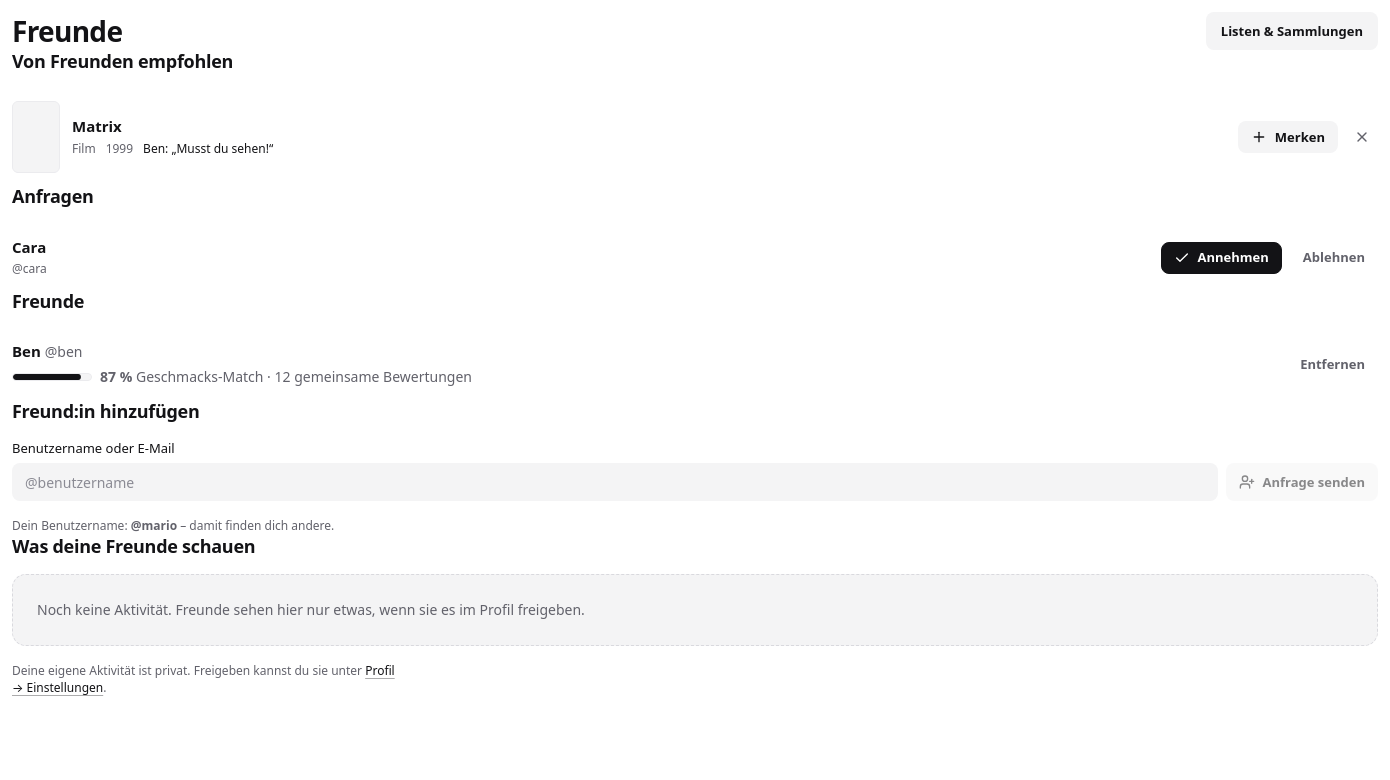
it: FriendsPage › explains unknown user names
This screenshot has width=1390, height=780.
Step 1. Type "nobody" into the field labelled "Benutzername oder E-Mail" → (615,482), box left=12, top=463, right=1218, bottom=501
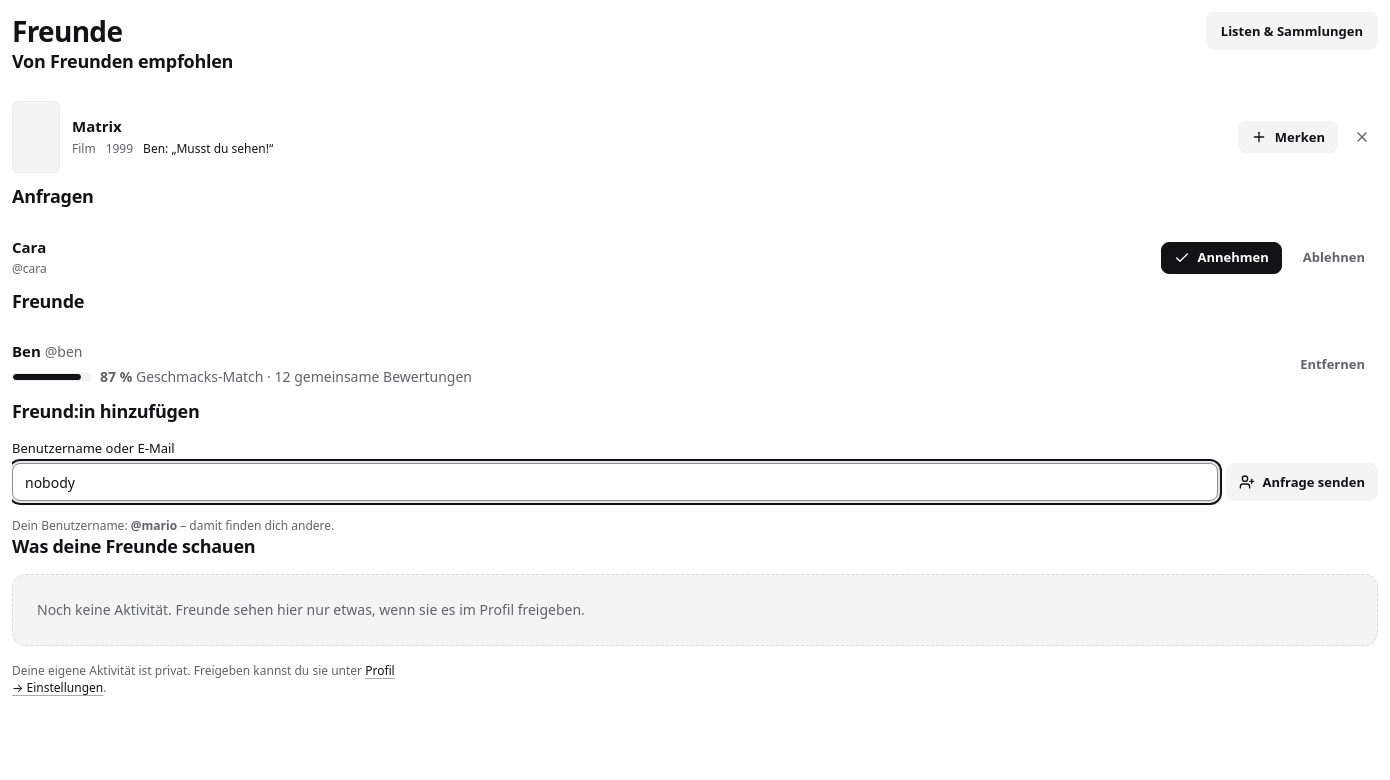
Step 2. Click the button "Anfrage senden" → (1302,482), box left=1226, top=463, right=1378, bottom=501
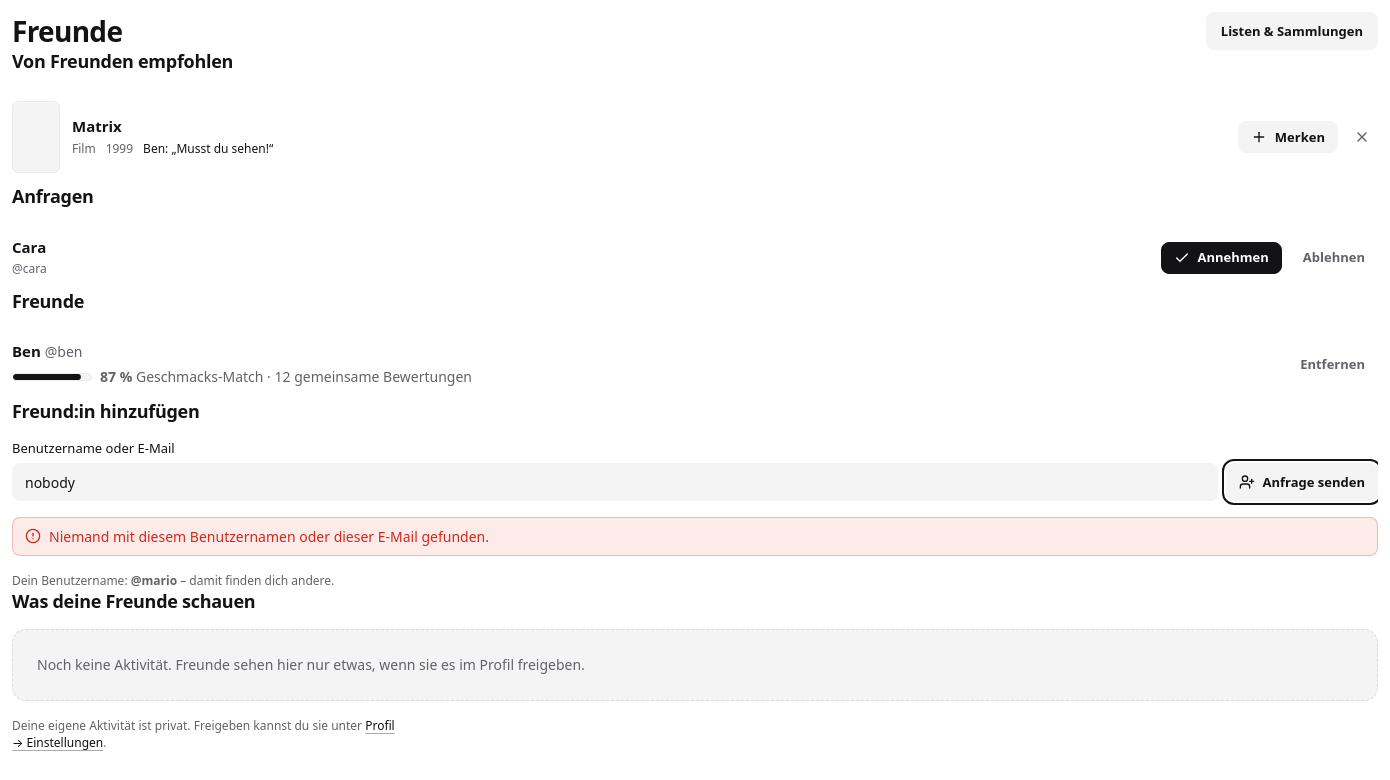
expect the text "Niemand mit diesem Benutzernamen oder dieser E-Mail gefunden." is shown: met, box left=49, top=526, right=489, bottom=547
